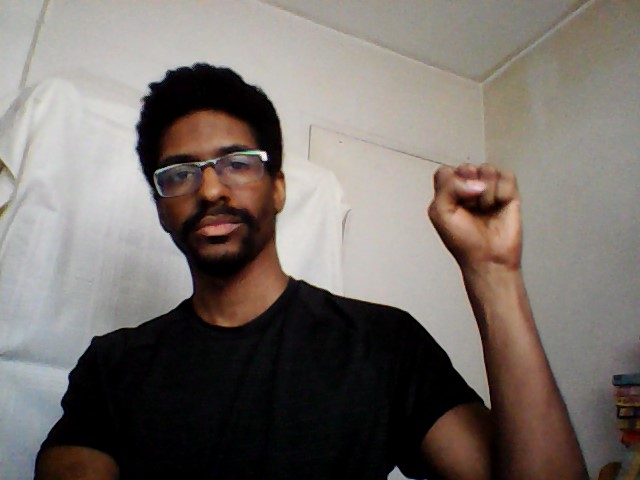s: (424, 157, 529, 274)
